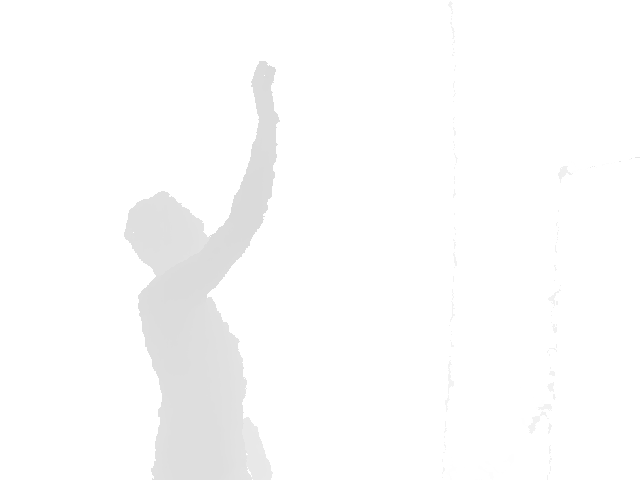hand: (250, 59, 282, 126)
head: (122, 189, 213, 283)
person: (123, 59, 282, 480)
